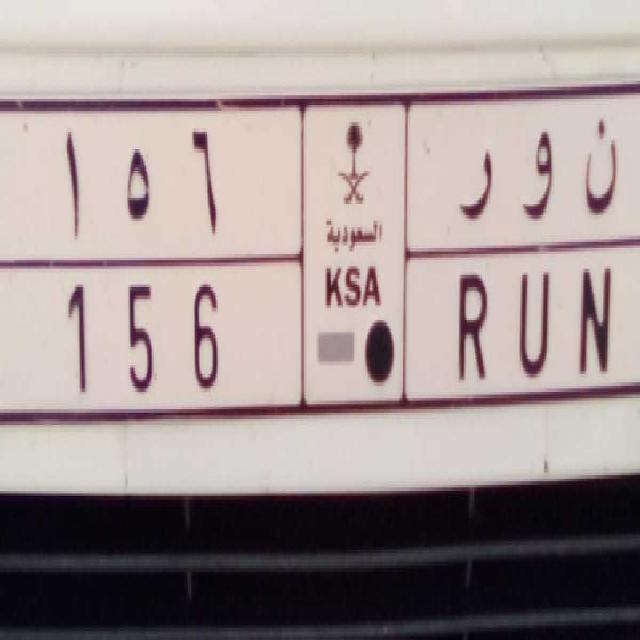license_plate: (14, 248, 628, 422)
